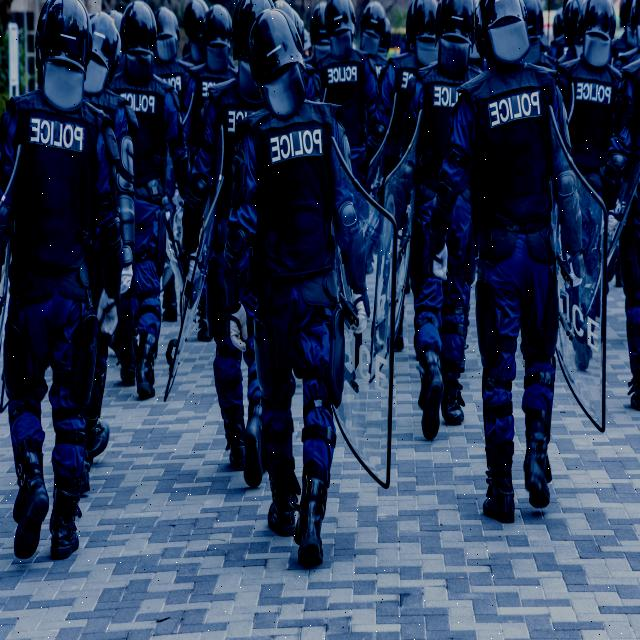police: (178, 0, 386, 539), (426, 0, 596, 511), (0, 0, 124, 562), (93, 0, 190, 422), (560, 0, 640, 465)
